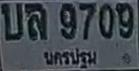0: (98, 2, 113, 38)
7: (78, 2, 95, 39)
9: (59, 2, 76, 38), (116, 2, 133, 37)
A26: (0, 2, 22, 39)
A36: (25, 3, 47, 39)
NPT: (40, 47, 100, 70)
